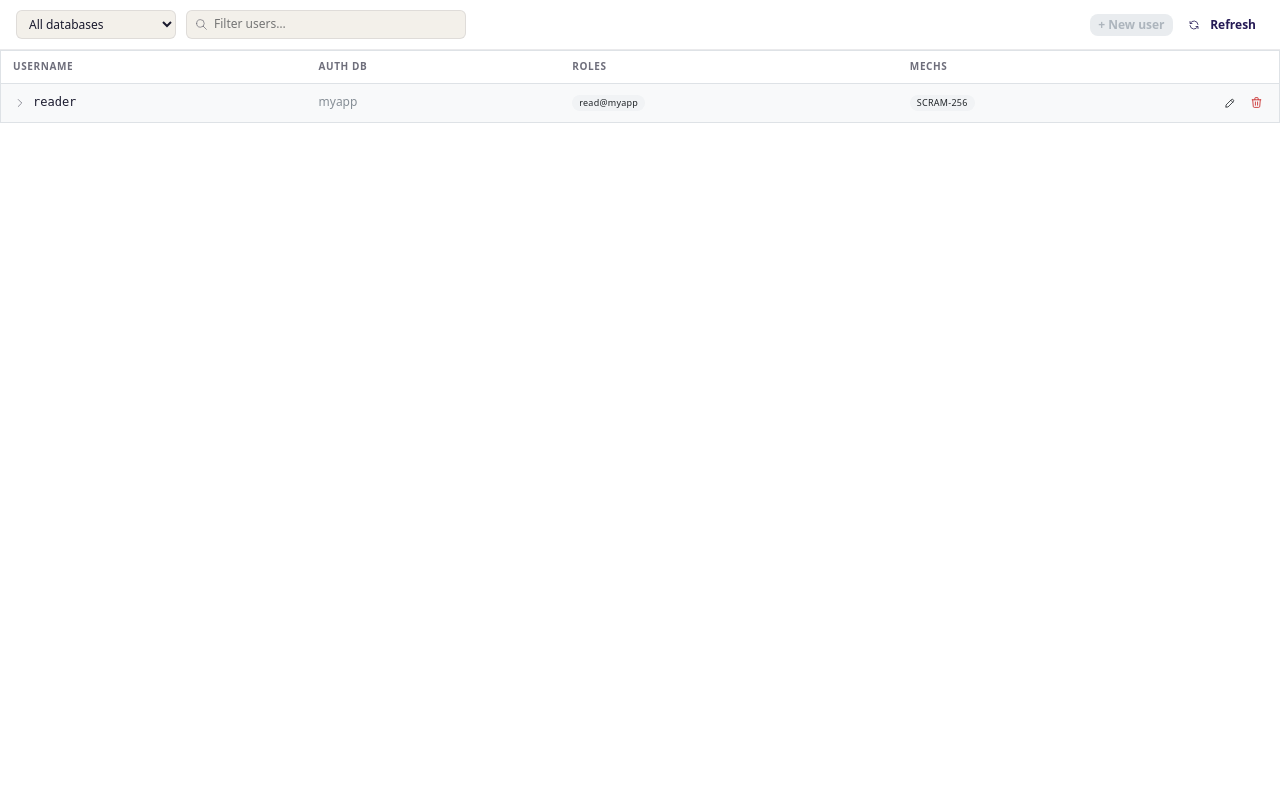
Test: UserDrawer — dialog shell (X15 T7) › puts role="dialog" on the panel — the element holding the form, not the backdrop
The width and height of the screenshot is (1280, 800).
Expected: the text "reader" is shown, [33, 93, 76, 112]
Select "myapp" in the dropdown named "Database" at coordinates (96, 24), box [16, 10, 176, 39]
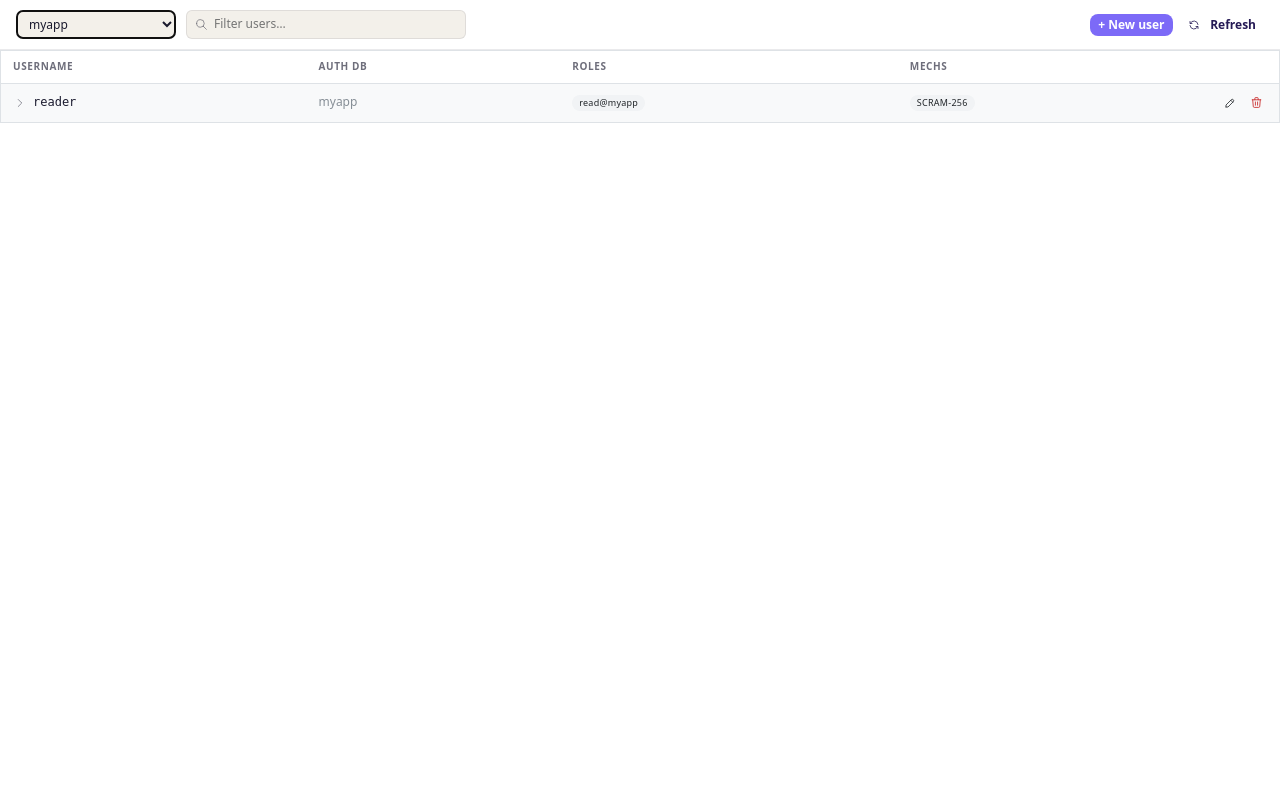
Click the button "+ New user" at coordinates (1131, 24), box [1090, 14, 1173, 36]
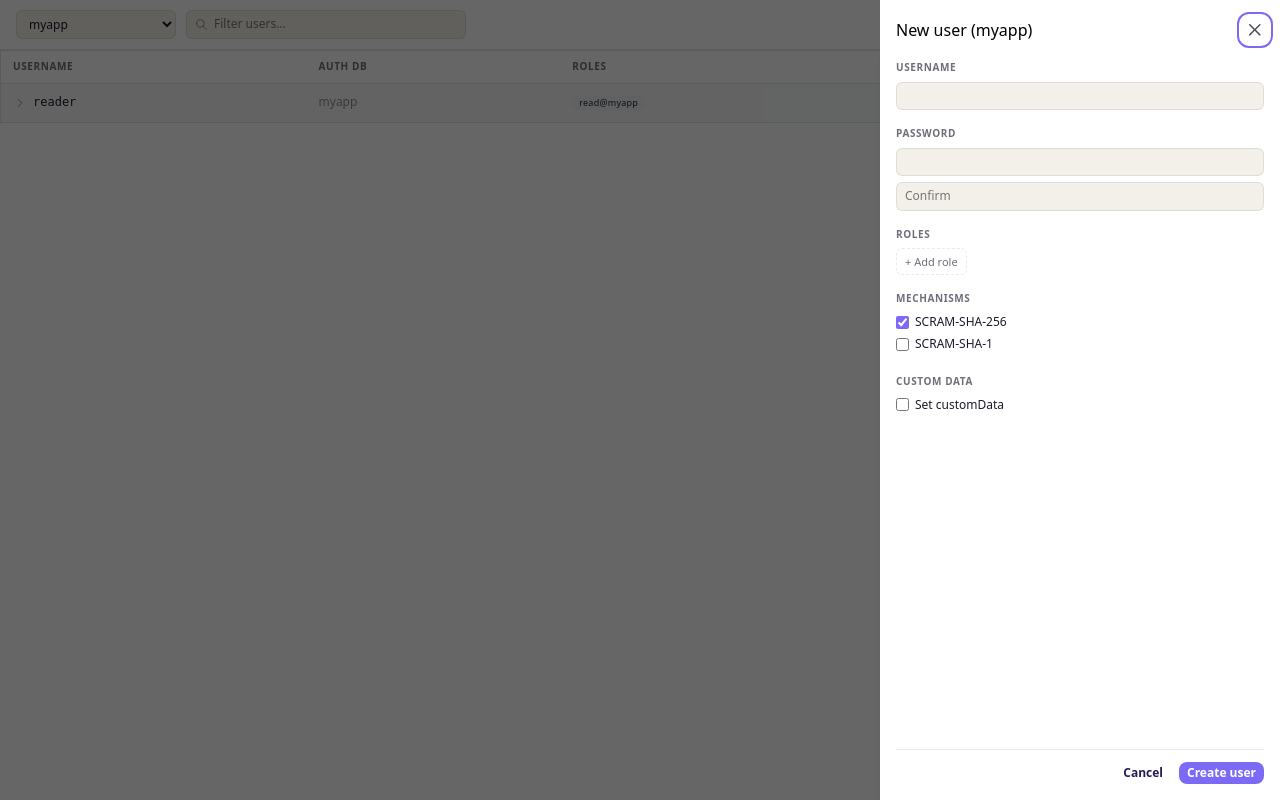
Result: the field named "Username" is shown at [896, 82, 1264, 110]
